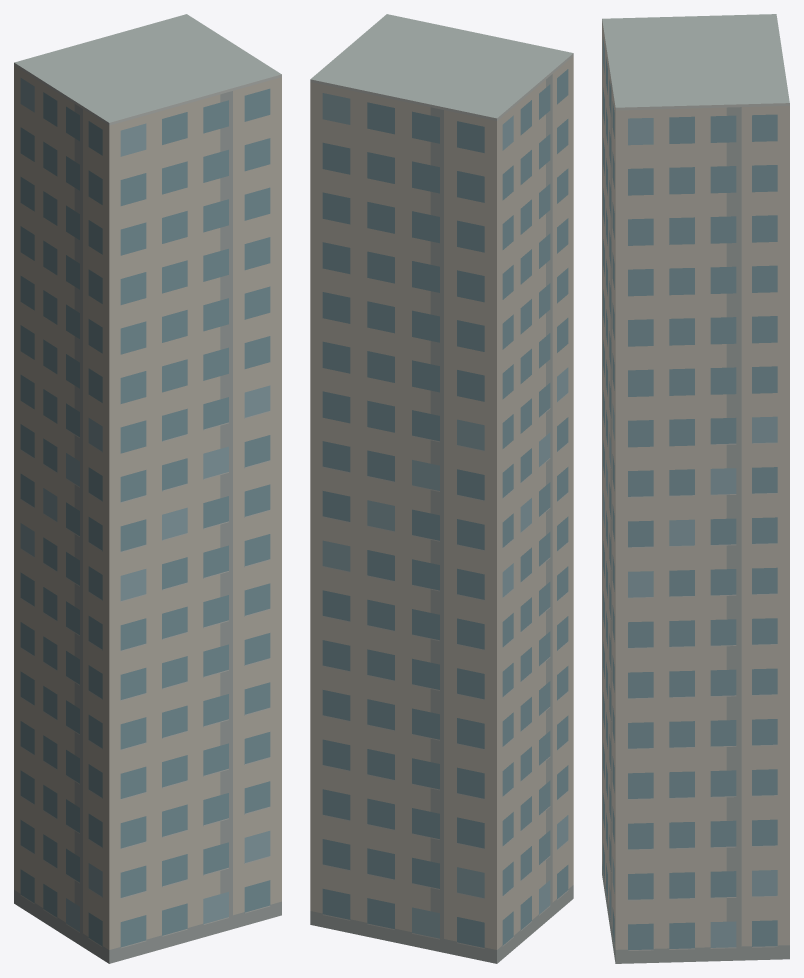
Rendered from residential-3650ffb1-c397-4827-aa46-69327dcaa6c6.glb.
3 views of the same model, side by side, from view 1: azimuth 30°, elevation 25°; view 2: azimuth 150°, elevation 25°; view 3: azimuth 270°, elevation 25° (orthographic).
Visible parts, largest first — view 1: residential-3650ffb1-c397-4827-aa46-69327dcaa6c6.tmp; view 2: residential-3650ffb1-c397-4827-aa46-69327dcaa6c6.tmp; view 3: residential-3650ffb1-c397-4827-aa46-69327dcaa6c6.tmp.
Part boxes in pixels (x1,y1,x2,y2): residential-3650ffb1-c397-4827-aa46-69327dcaa6c6.tmp: (14,14,281,963); residential-3650ffb1-c397-4827-aa46-69327dcaa6c6.tmp: (310,14,573,963); residential-3650ffb1-c397-4827-aa46-69327dcaa6c6.tmp: (602,14,789,963).
Bounding box in the file's own units: 17.62 × 75 × 14.92.
